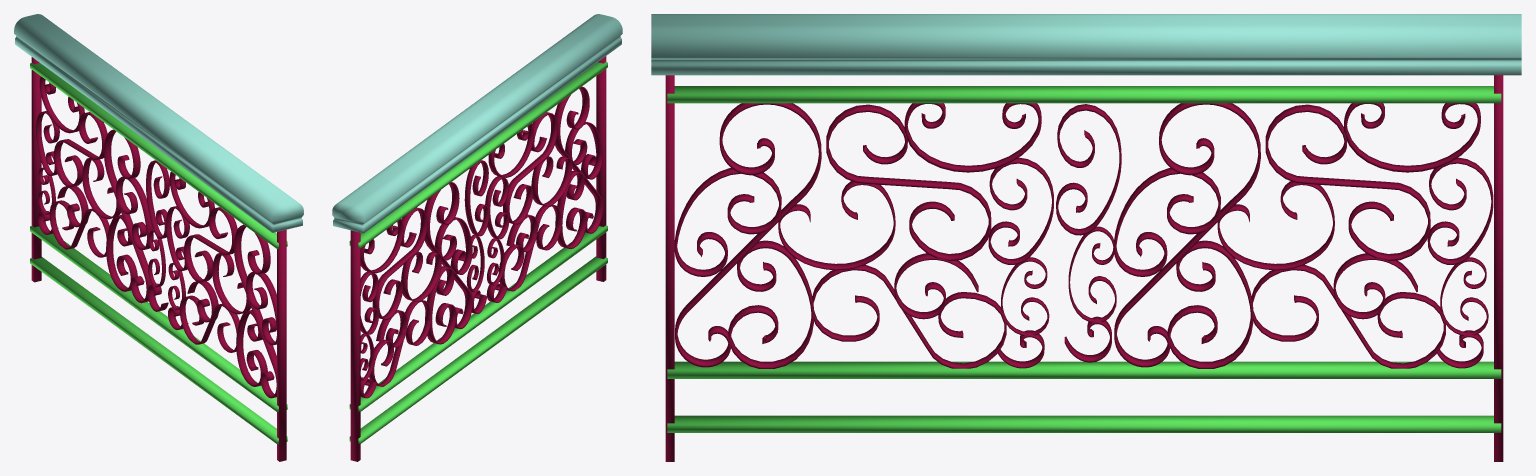
File: fence2.obj
The picture shows the model from 3 angles, left to right: view 1: azimuth 30°, elevation 25°; view 2: azimuth 150°, elevation 25°; view 3: azimuth 270°, elevation 25°; orthographic projection. The views are drawn at different scales.
Bounding box in the file's own units: 0.1299 × 1 × 1.8.
